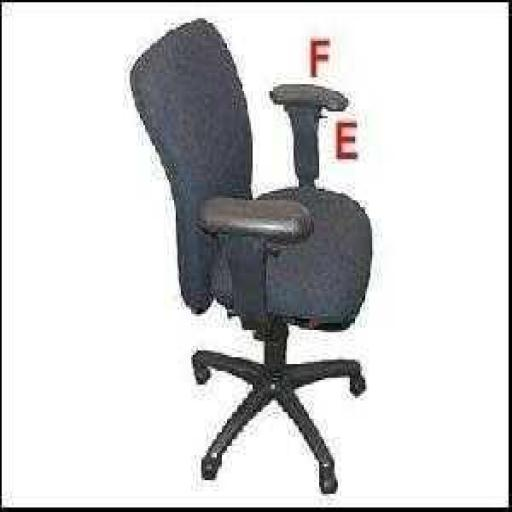chair: (124, 15, 386, 499)
